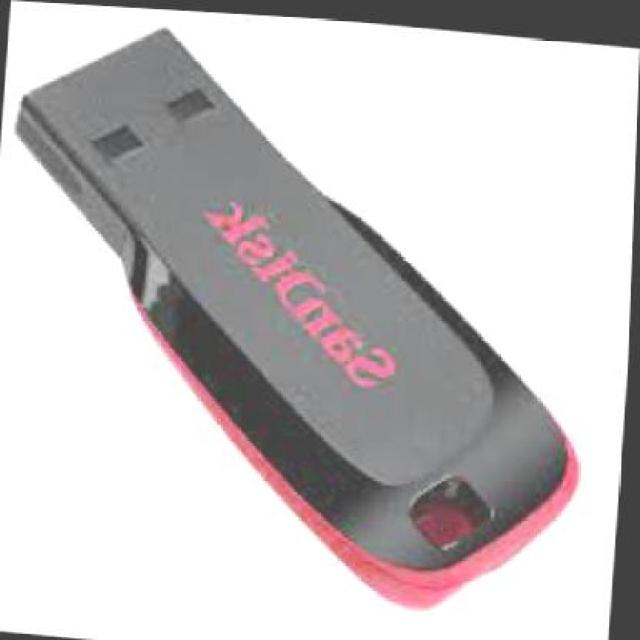Flashdisk: (0, 8, 614, 621)
